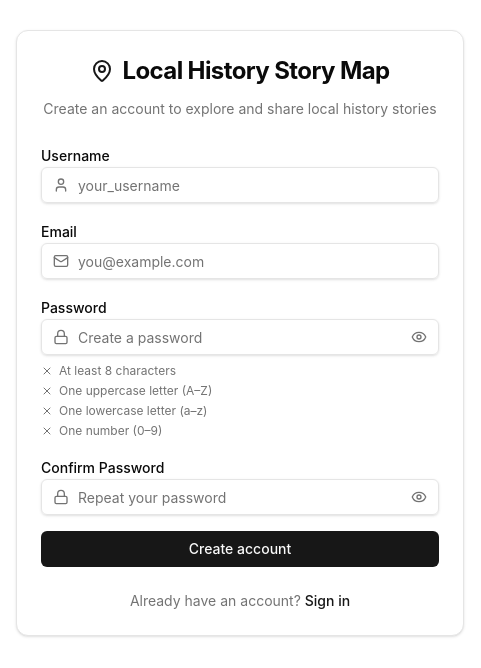
it: RegisterPage › shows error for invalid email format
In the field labelled "Username": (240, 185) [41, 167, 439, 203], type "testuser"
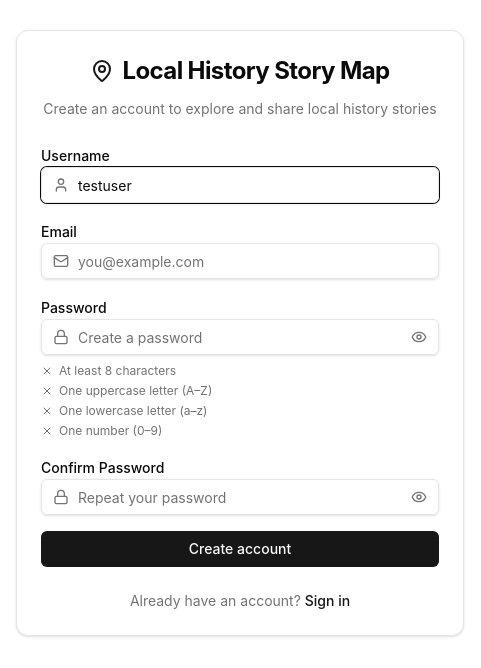
In the field labelled "Email": (240, 261) [41, 243, 439, 279], type "notanemail"
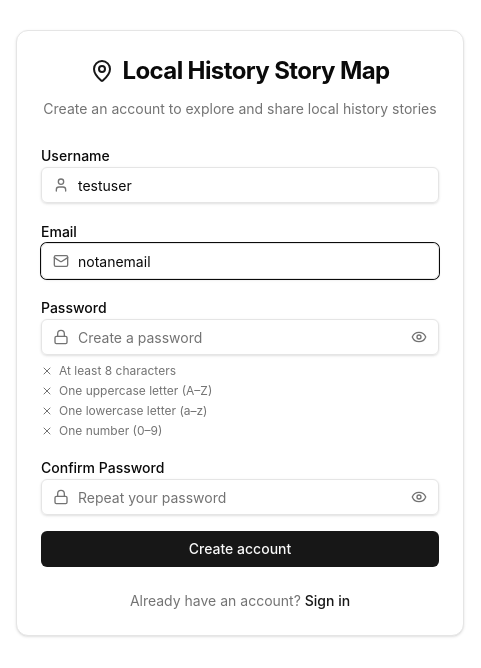
In the password field labelled "Password": (240, 337) [41, 319, 439, 355], type "Password1"
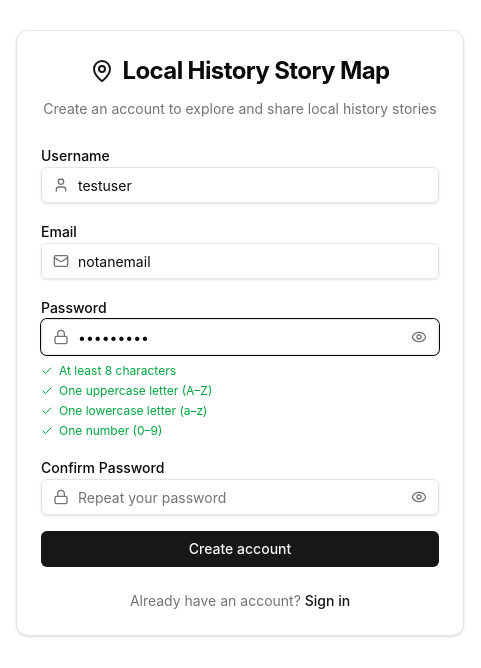
In the password field labelled "Confirm Password": (240, 497) [41, 479, 439, 515], type "Password1"
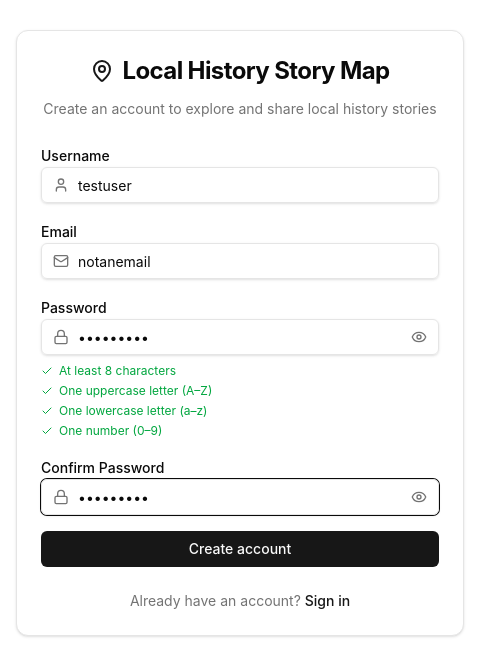
Click the button "Create account": (240, 549) [41, 531, 439, 567]
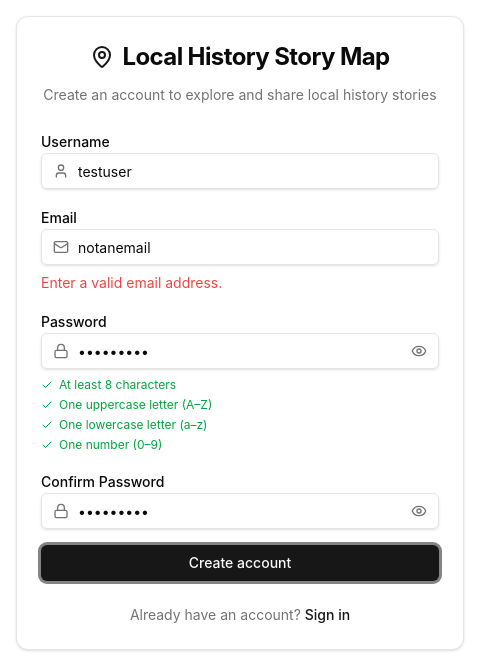
Result: the text "Enter a valid email address." is shown at [41, 274, 222, 291]
